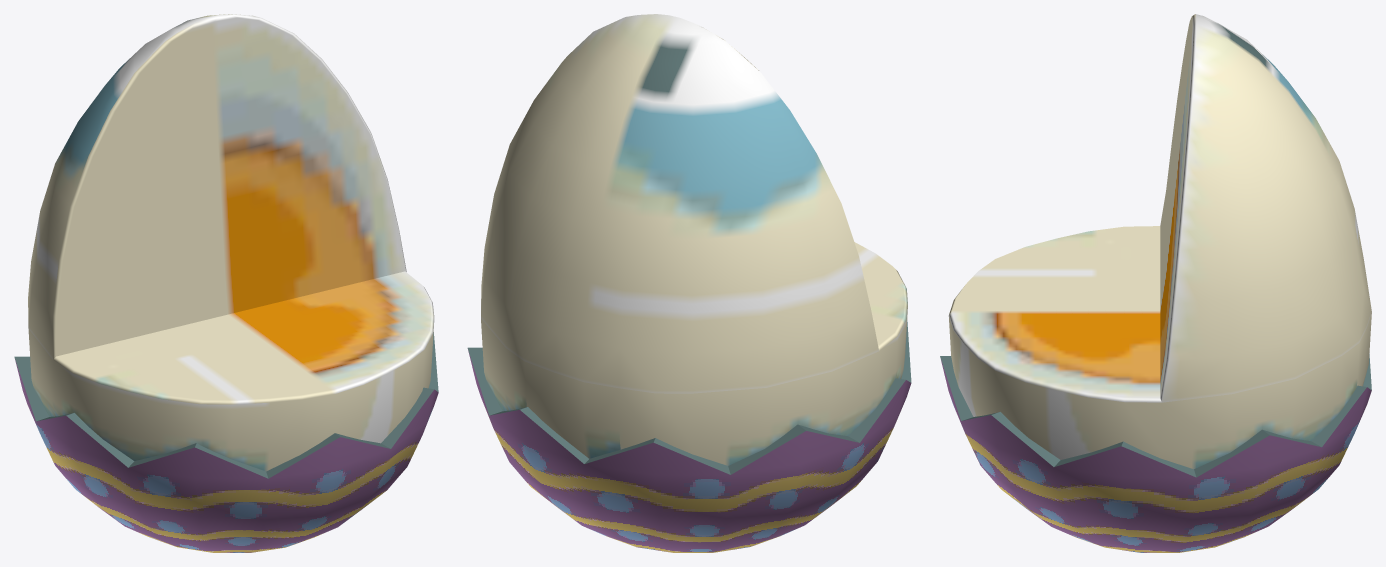
The model's file is int_egg_chairS.dae.
3 renders of one model, left to right at view 1: azimuth 30°, elevation 25°; view 2: azimuth 150°, elevation 25°; view 3: azimuth 270°, elevation 25°, orthographic. The views are drawn at different scales.
Parts seen in each view (by area): view 1: int_egg_chairS; view 2: int_egg_chairS; view 3: int_egg_chairS.
Boxes of the visible parts, x1,y1,x2,y2 form: int_egg_chairS: [14, 14, 438, 552]; int_egg_chairS: [467, 14, 911, 552]; int_egg_chairS: [940, 14, 1371, 552].
Bounding box in the file's own units: 28.03 × 36.76 × 28.32.
Materials: 2 (2 with a texture image).
